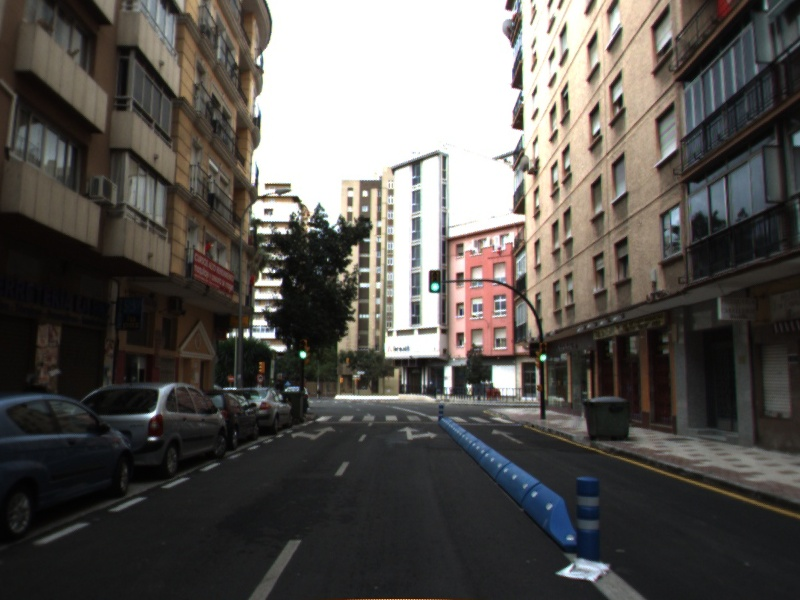STRAIGHT: (490, 427, 526, 445)
STRAIGHT_LEFT: (290, 425, 337, 441)
STRAIGHT_RIGHT: (396, 426, 440, 441)
